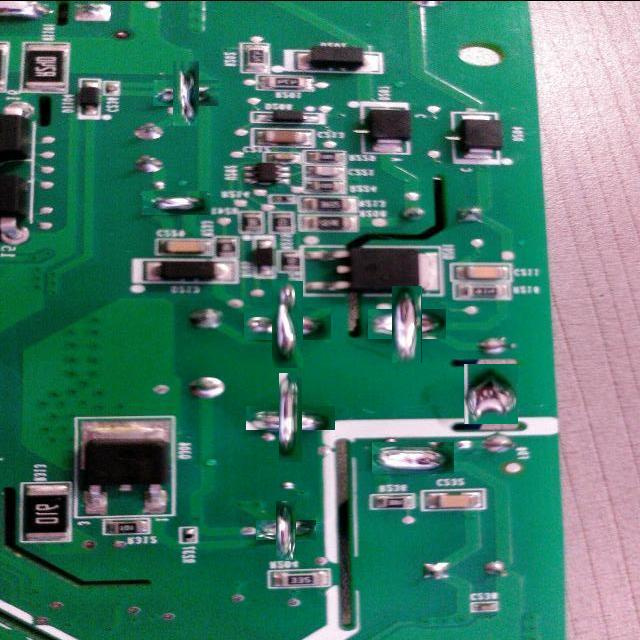Short_circuit: (258, 295, 317, 354), (462, 366, 520, 423), (262, 390, 319, 446), (380, 298, 434, 352), (372, 442, 454, 474), (163, 70, 209, 116), (142, 191, 210, 215), (266, 510, 306, 550)
